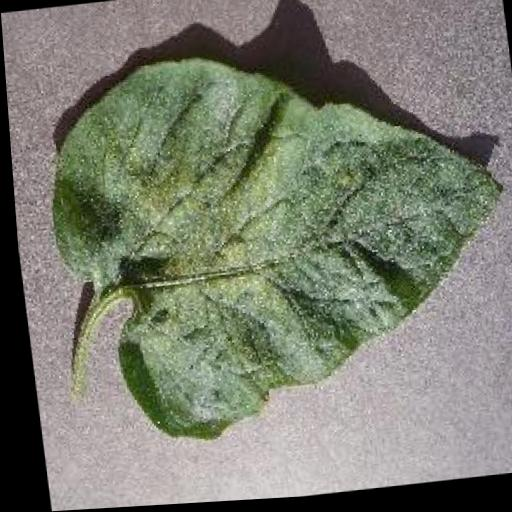Spider Mites: (31, 30, 512, 453)
